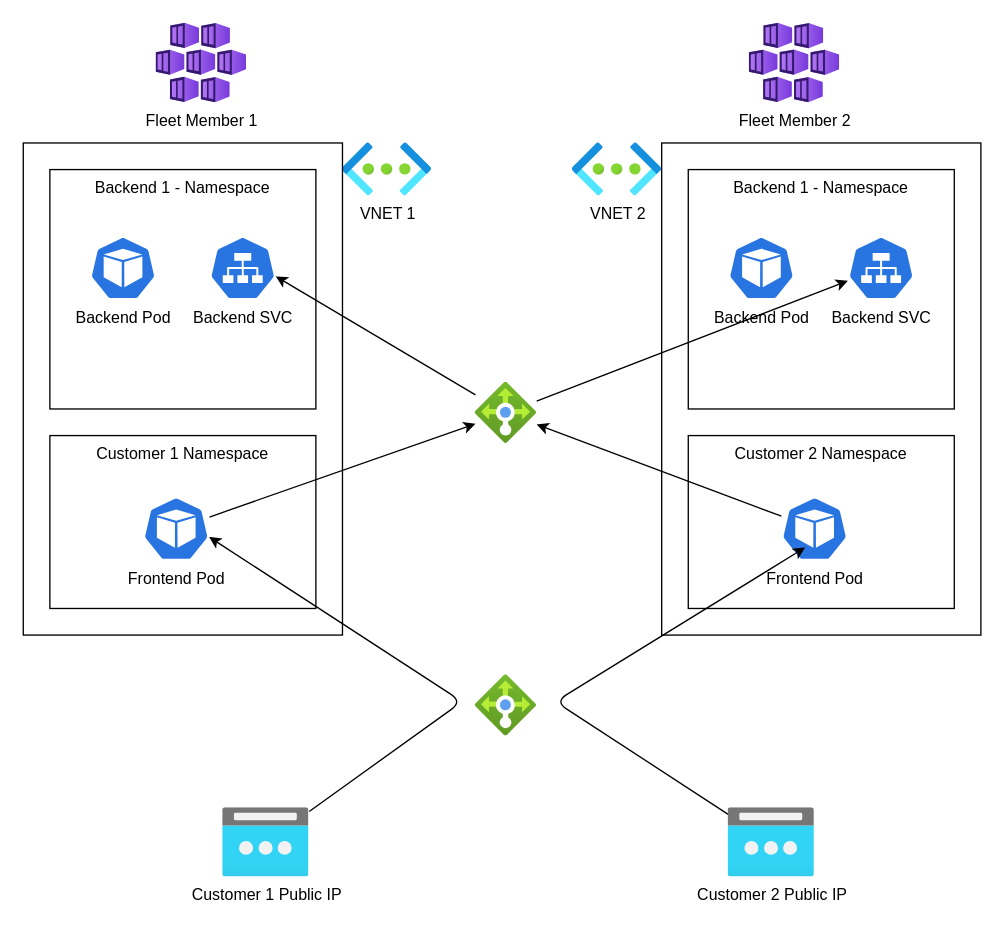
Image size: 1004x927. Some labels were removed from this diagram. Each missing label, with the centre of its shape:
"MultiClusterService for Backend" goes at point (505, 412).
"Public Load Balancer" goes at point (505, 704).
